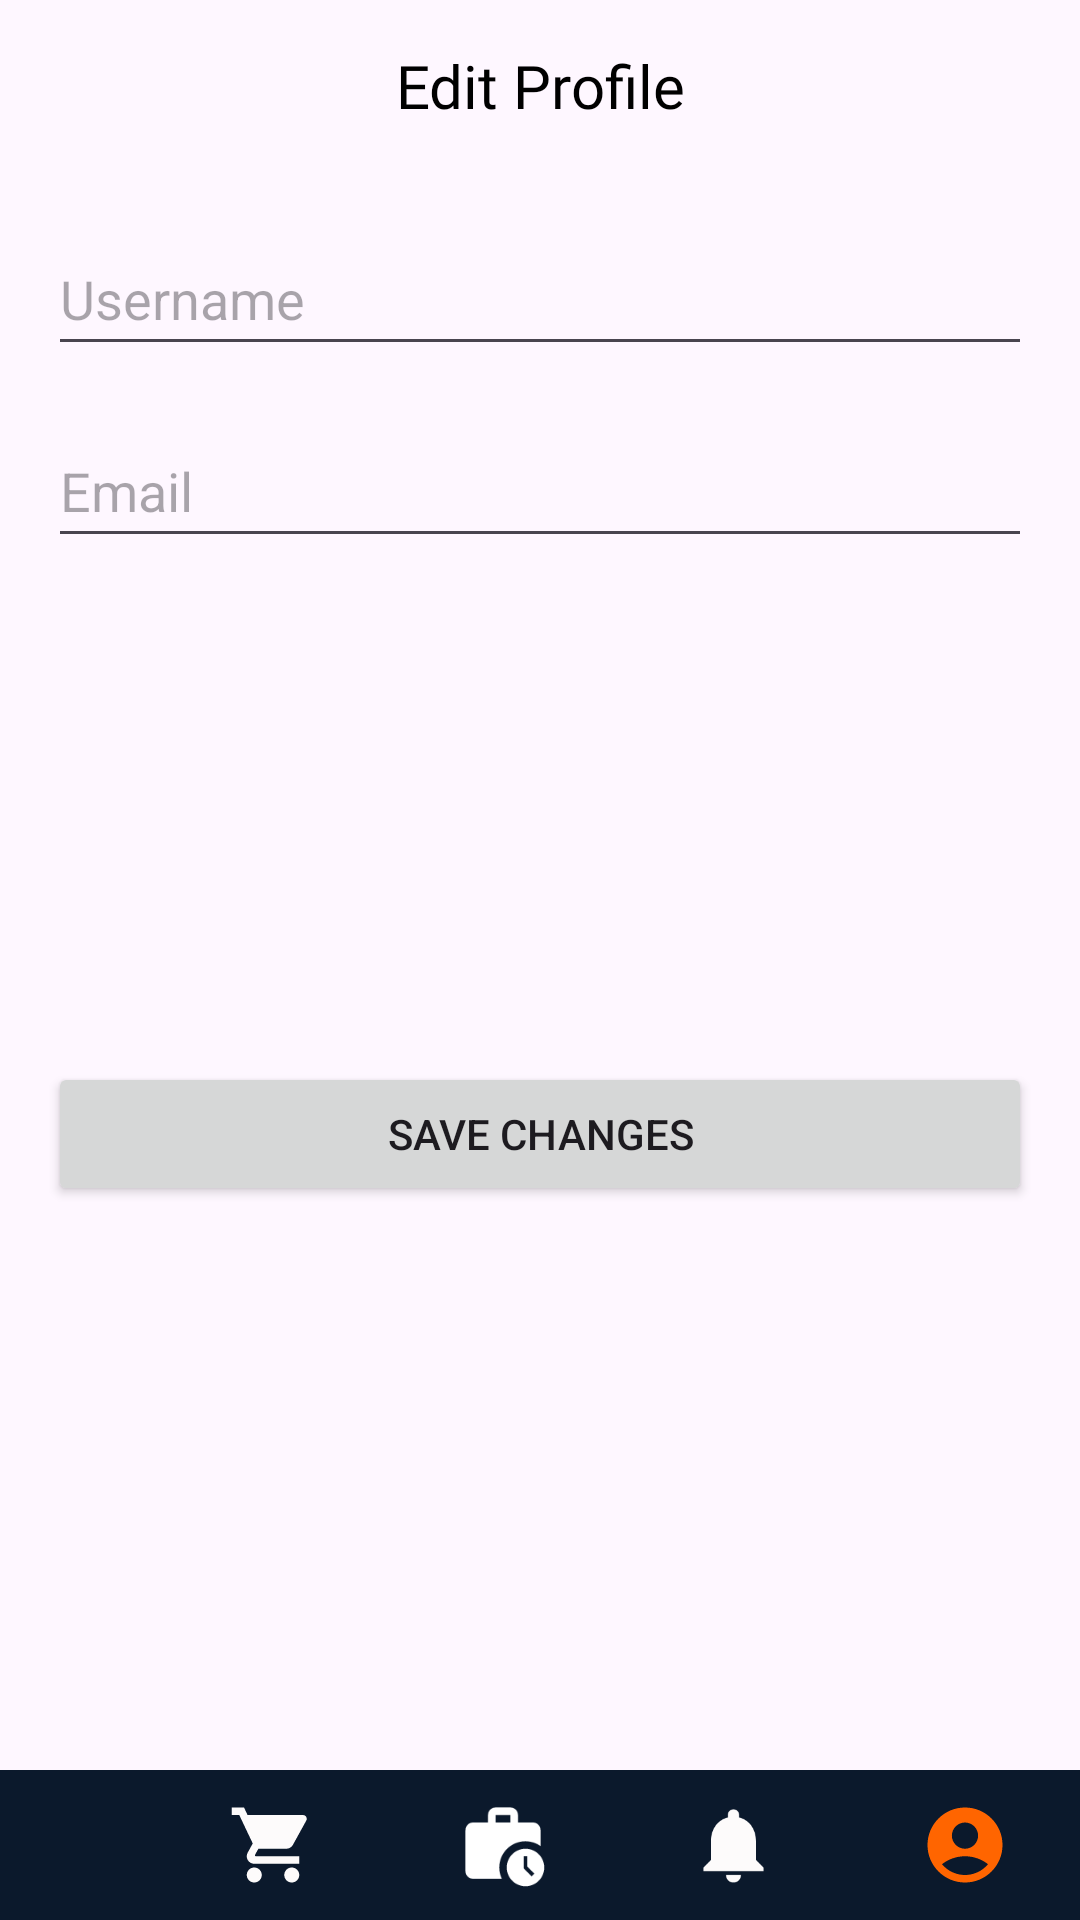

Locate icon controls on the screen. Image size 1080px x 1920px, boxes as BBox(x1, y1, x2, y2).
cart: BBox(231, 1807, 307, 1883)
notifications: BBox(703, 1809, 764, 1883)
work history: BBox(465, 1807, 545, 1887)
